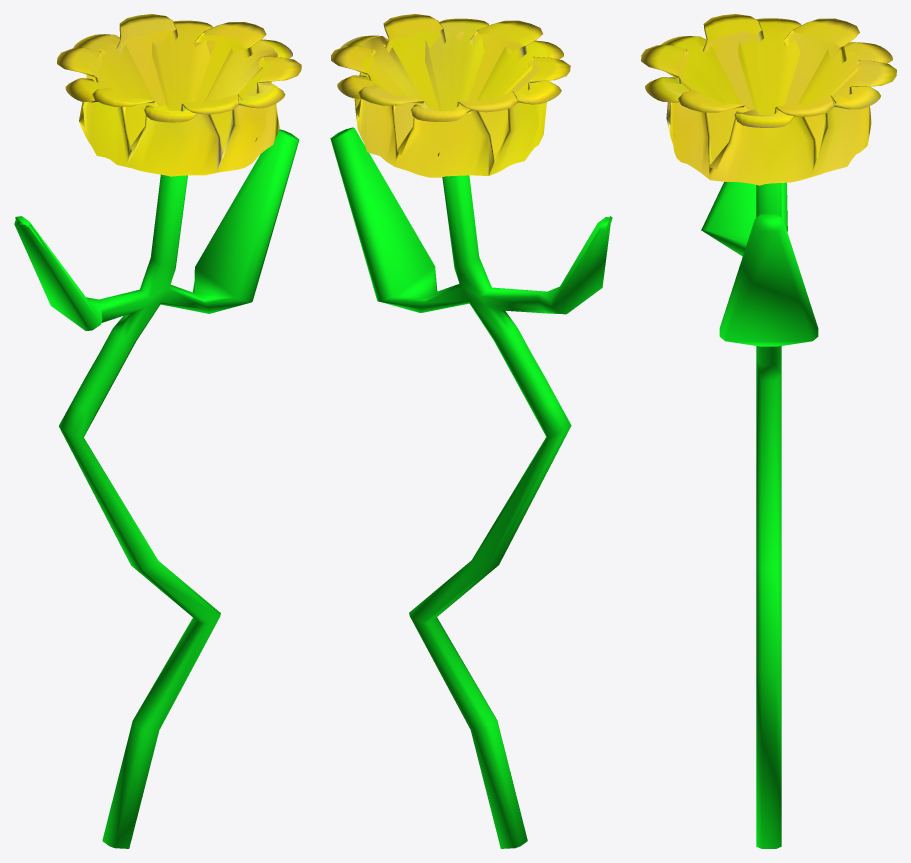
The model's file is Sunflower blooming open only.fbx.
3 views of the same model, side by side, from view 1: azimuth 30°, elevation 25°; view 2: azimuth 150°, elevation 25°; view 3: azimuth 270°, elevation 25° (orthographic). The views are drawn at different scales.
Visible parts, largest first — view 1: Cube.002, Circle.002; view 2: Cube.002, Circle.002; view 3: Circle.002, Cube.002.
Part boxes in pixels (box(x1,y1,x2,y2)): Cube.002: box(14, 129, 299, 848); Circle.002: box(57, 14, 301, 176); Cube.002: box(330, 127, 612, 848); Circle.002: box(331, 14, 570, 177); Circle.002: box(641, 14, 896, 185); Cube.002: box(701, 182, 818, 848).
Bounding box in the file's own units: 6.55 × 17.4 × 4.97.
